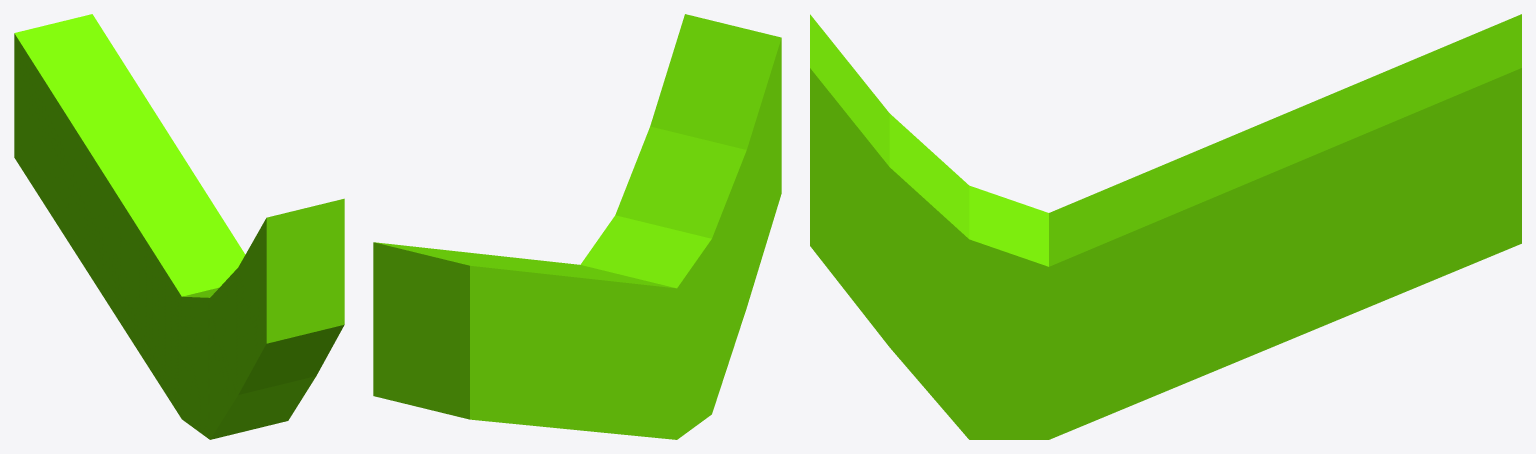
The picture shows the model from 3 angles, left to right: view 1: azimuth 30°, elevation 25°; view 2: azimuth 150°, elevation 25°; view 3: azimuth 270°, elevation 25°; orthographic projection. The views are drawn at different scales.
Parts seen in each view (by area): view 1: Cube; view 2: Cube; view 3: Cube.
Boxes of the visible parts, x1,y1,x2,y2 form: Cube: (14, 14, 344, 439); Cube: (373, 14, 781, 439); Cube: (810, 14, 1521, 439).
Bounding box in the file's own units: 0.4 × 1.29 × 2.23.
Materials: 1 (1 with a texture image).
